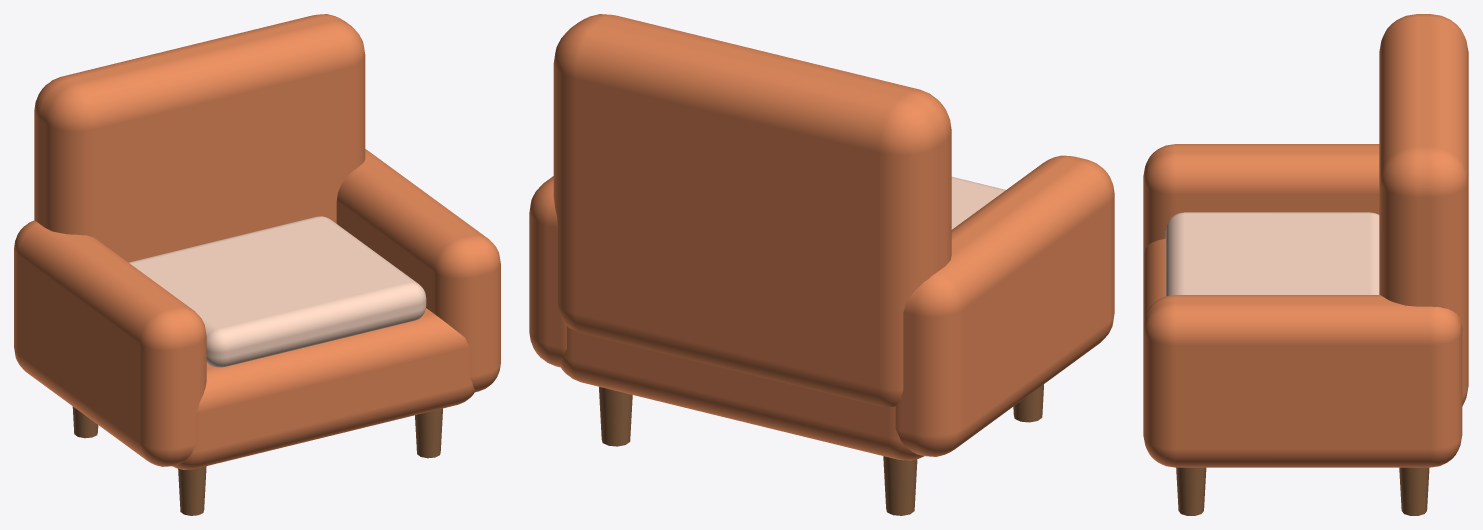
The model's file is armchair.glb.
The picture shows the model from 3 angles, left to right: view 1: azimuth 30°, elevation 25°; view 2: azimuth 150°, elevation 25°; view 3: azimuth 270°, elevation 25°; orthographic projection. The views are drawn at different scales.
Bounding box in the file's own units: 1.36 × 1.27 × 1.02.
